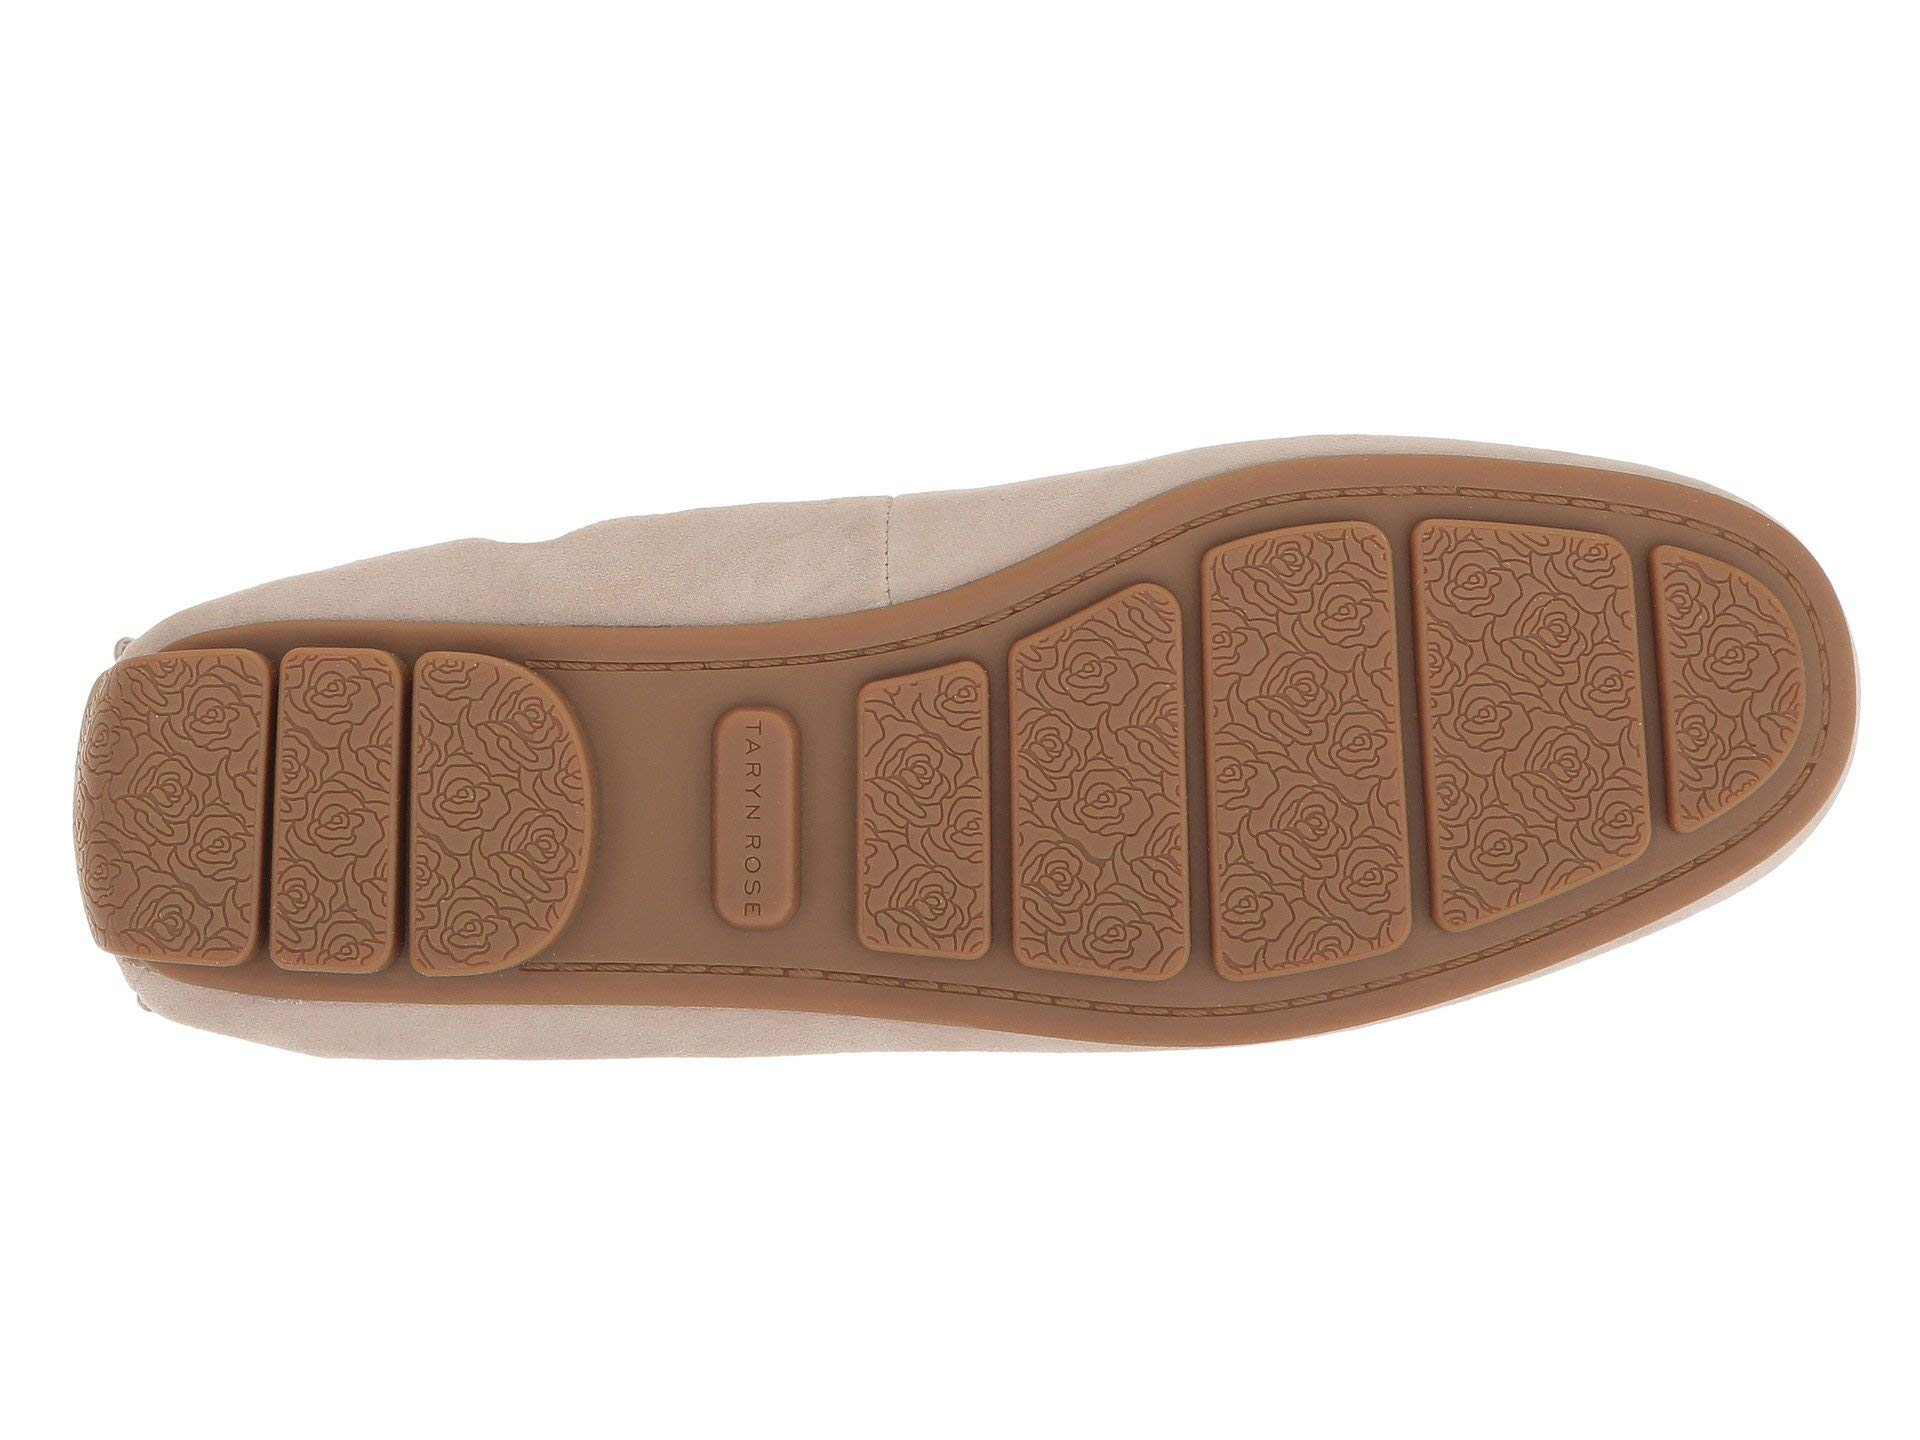circle: (674, 690, 850, 954)
quad: (989, 578, 1231, 1029), (674, 690, 850, 954)
text: (674, 690, 850, 954)
